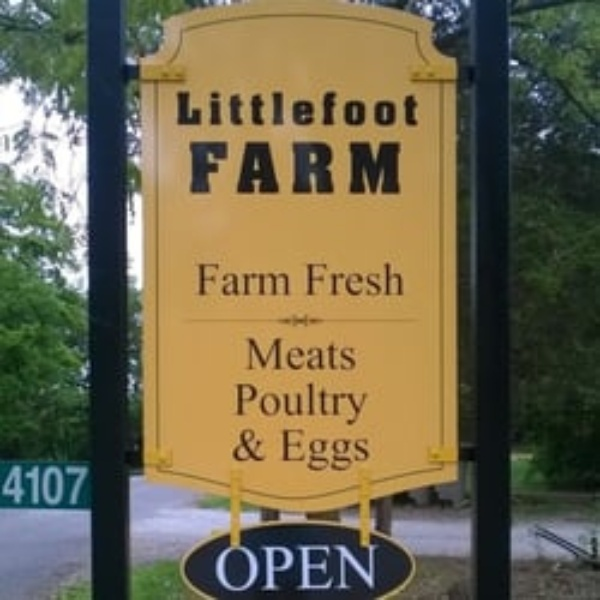text: (193, 140, 208, 195), (209, 140, 224, 195), (225, 140, 240, 195), (241, 140, 256, 195), (257, 140, 272, 195), (273, 140, 288, 195), (289, 140, 304, 195), (305, 140, 320, 195), (321, 140, 336, 195), (337, 140, 352, 195), (353, 140, 368, 195), (369, 140, 384, 195), (385, 140, 400, 195), (225, 543, 240, 593), (241, 543, 256, 593), (257, 543, 272, 593), (273, 543, 288, 593), (289, 543, 304, 593), (305, 543, 320, 593), (321, 543, 336, 593), (337, 543, 352, 593), (353, 543, 368, 593), (241, 382, 256, 428), (257, 382, 272, 428), (273, 382, 288, 428), (289, 382, 304, 428), (305, 382, 320, 428), (321, 382, 336, 428), (337, 382, 352, 428), (353, 382, 368, 428), (289, 428, 304, 473), (305, 428, 320, 473), (321, 428, 336, 473), (337, 428, 352, 473), (353, 428, 368, 473), (17, 466, 32, 507), (33, 466, 48, 507), (49, 466, 64, 507), (65, 466, 80, 507), (212, 543, 224, 593), (177, 89, 192, 128), (193, 89, 208, 128), (209, 89, 224, 128), (225, 89, 240, 128), (241, 89, 256, 128), (257, 89, 272, 128), (273, 89, 288, 128), (289, 89, 304, 128), (305, 89, 320, 128), (321, 89, 336, 128), (337, 89, 352, 128), (353, 89, 368, 128), (369, 89, 384, 128), (385, 89, 400, 128), (401, 89, 416, 128), (209, 260, 224, 298), (225, 260, 240, 298), (241, 260, 256, 298), (257, 260, 272, 298), (273, 260, 288, 298), (369, 543, 380, 593), (305, 262, 320, 298), (321, 262, 336, 298), (337, 262, 352, 298), (353, 262, 368, 298), (369, 262, 384, 298), (385, 262, 400, 298), (257, 337, 272, 373), (273, 337, 288, 373), (289, 337, 304, 373), (305, 337, 320, 373), (321, 337, 336, 373), (337, 337, 352, 373), (241, 428, 256, 464), (3, 466, 16, 507), (195, 260, 208, 298), (243, 337, 256, 373), (81, 466, 92, 507), (257, 428, 267, 464), (231, 428, 240, 464), (233, 382, 240, 428), (281, 428, 288, 473), (188, 140, 192, 195), (401, 262, 406, 298), (401, 140, 404, 195), (417, 89, 421, 128), (173, 89, 176, 128), (353, 337, 356, 373), (289, 260, 291, 298), (369, 382, 370, 428), (369, 428, 370, 473)
